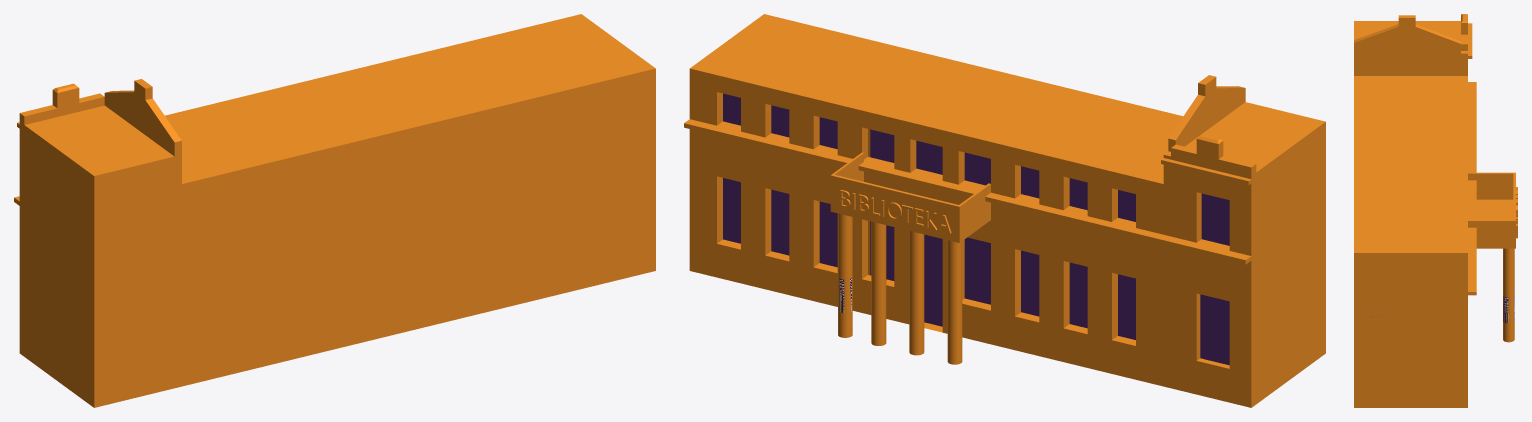
Rendered from Willa Włodzimierza Kluczyckiego.obj.
The picture shows the model from 3 angles, left to right: view 1: azimuth 30°, elevation 25°; view 2: azimuth 150°, elevation 25°; view 3: azimuth 270°, elevation 25°; orthographic projection. The views are drawn at different scales.
Visible parts, largest first — view 1: Walec.3; view 2: Walec.3; view 3: Walec.3.
Part boxes in pixels (<box>): Walec.3: <box>14,14,655,407</box>; Walec.3: <box>684,14,1325,407</box>; Walec.3: <box>1354,14,1517,407</box>.
Size of the model in its own units: 39.35 by 18.64 by 12.98.
